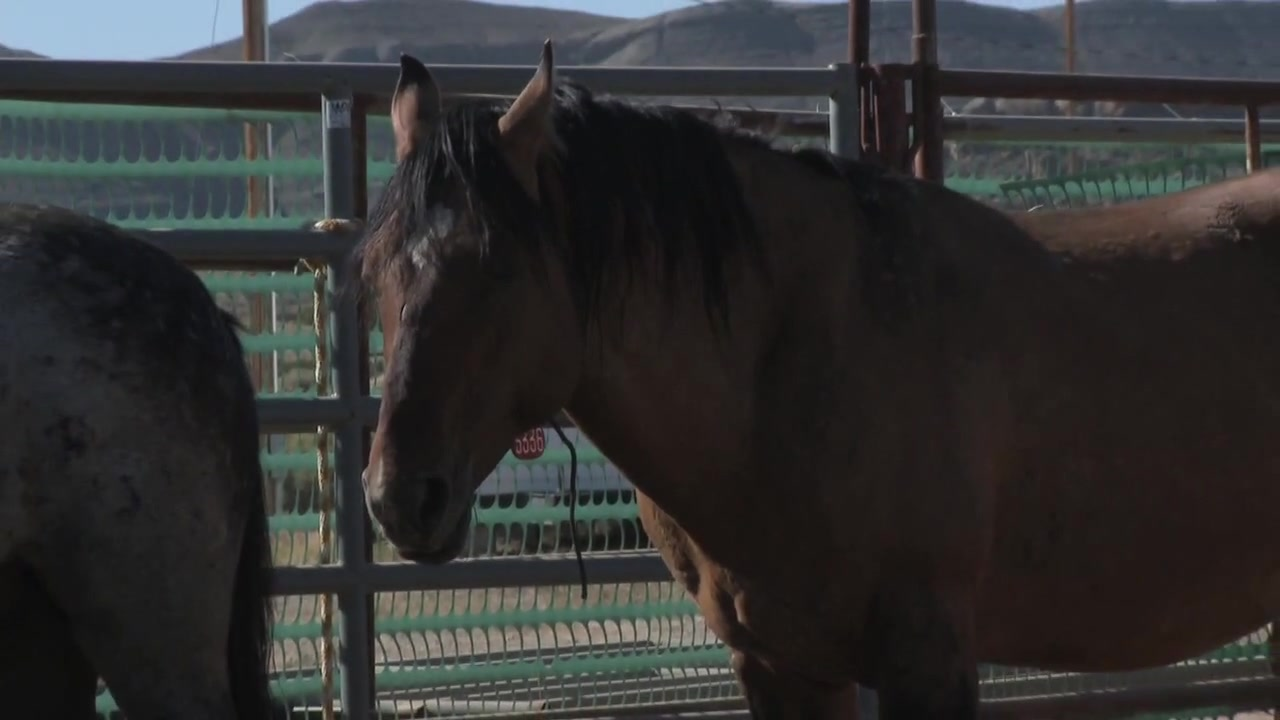horse: (349, 41, 1280, 720), (1, 201, 283, 720)
